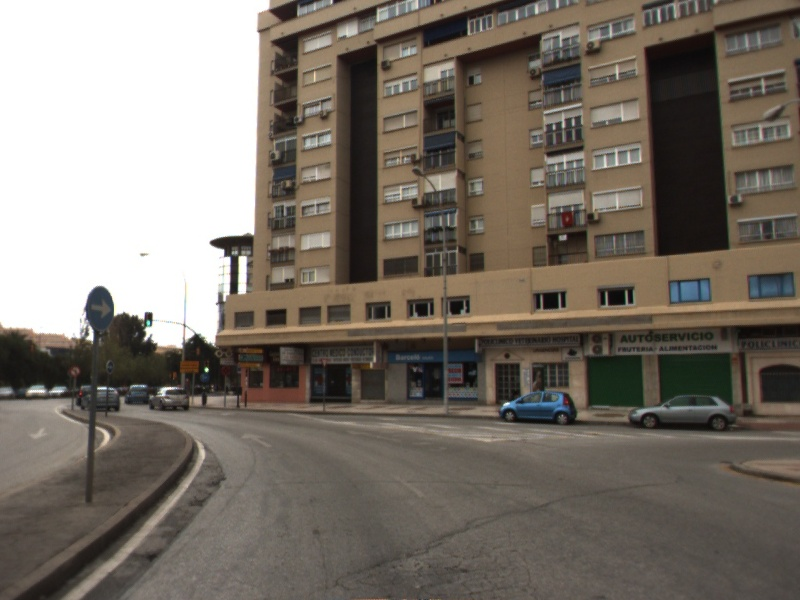STRAIGHT: (239, 430, 274, 449)
